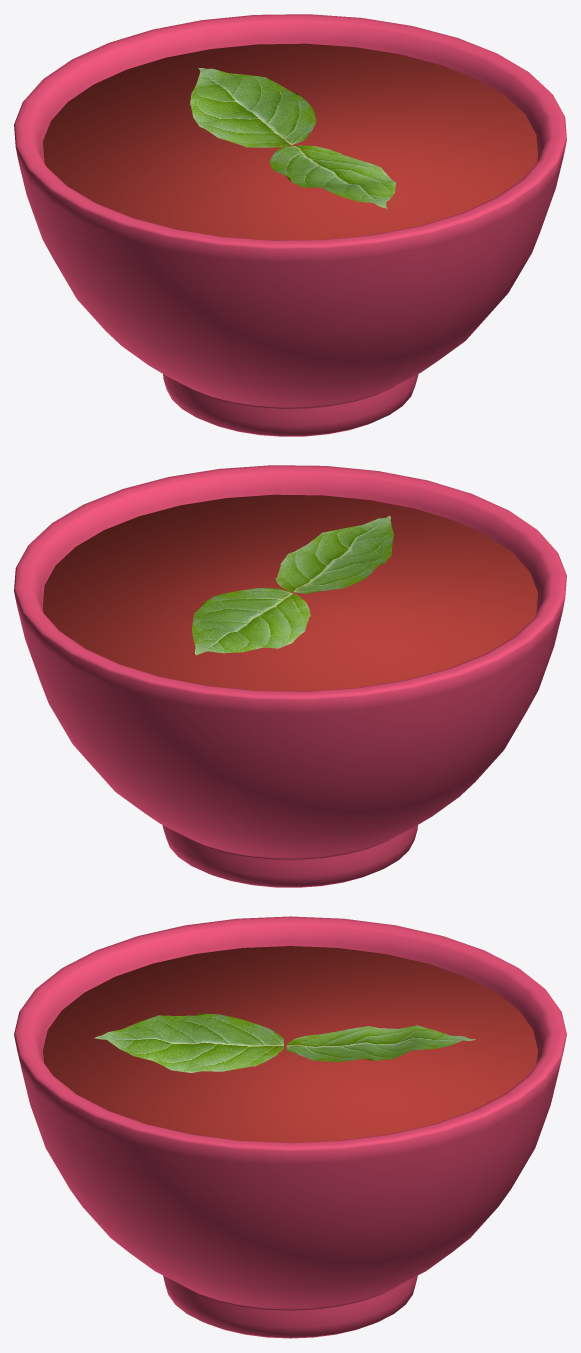
Rendered from pomidorowa.gltf.
3 renders of one model, top to bottom at view 1: azimuth 30°, elevation 25°; view 2: azimuth 150°, elevation 25°; view 3: azimuth 270°, elevation 25°, orthographic.
Parts seen in each view (by area): view 1: Sphere, Sphere.001, roslina.001, roslina.002; view 2: Sphere, Sphere.001, roslina.001, roslina.002; view 3: Sphere, Sphere.001, roslina.002, roslina.001.
Boxes of the visible parts, <box> form: Sphere: <box>14,14,566,436</box>; Sphere.001: <box>43,43,537,240</box>; roslina.001: <box>190,68,316,147</box>; roslina.002: <box>269,145,395,208</box>; Sphere: <box>14,465,566,887</box>; Sphere.001: <box>43,494,537,691</box>; roslina.001: <box>192,587,310,655</box>; roslina.002: <box>275,515,393,593</box>; Sphere: <box>14,916,566,1338</box>; Sphere.001: <box>43,946,537,1142</box>; roslina.002: <box>94,1013,284,1072</box>; roslina.001: <box>286,1025,475,1062</box>.
Size of the model in its own units: 2.12 by 1.09 by 2.12.
2 materials, 2 textured.
